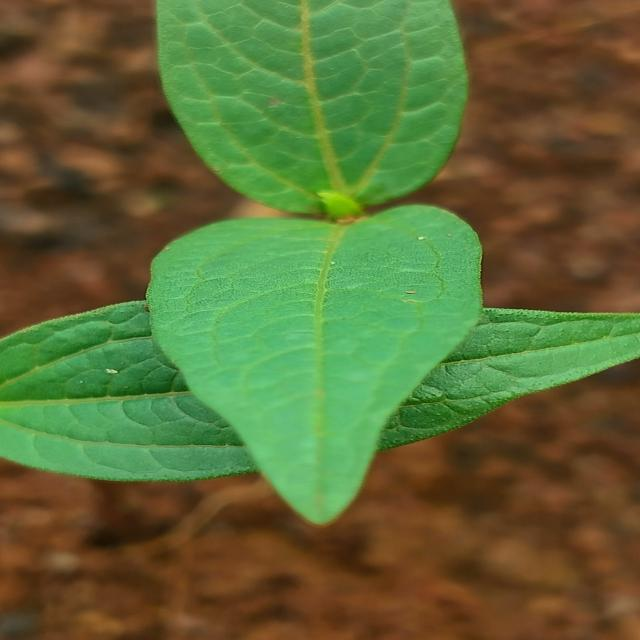Black gram_healthy: (0, 293, 640, 485), (143, 202, 497, 524), (156, 0, 472, 215)
